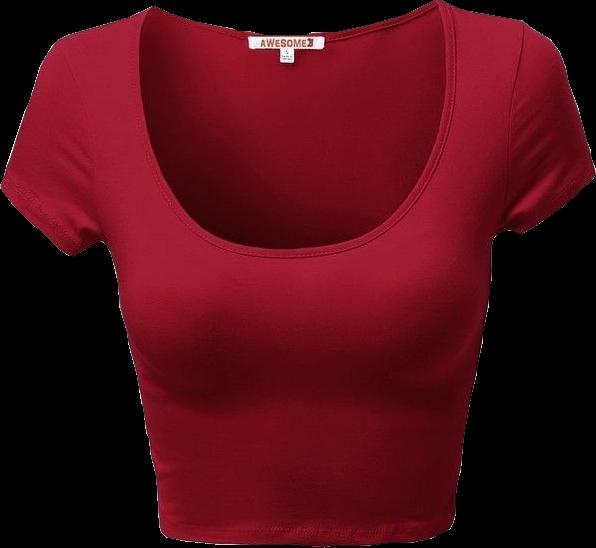Bodice: (57, 0, 526, 545)
Neckline: (137, 2, 453, 251)
Sleeve: (0, 42, 104, 255), (501, 23, 595, 233)
Sleeveline: (54, 39, 109, 243), (500, 23, 531, 229)
Waistline: (158, 520, 456, 547)
